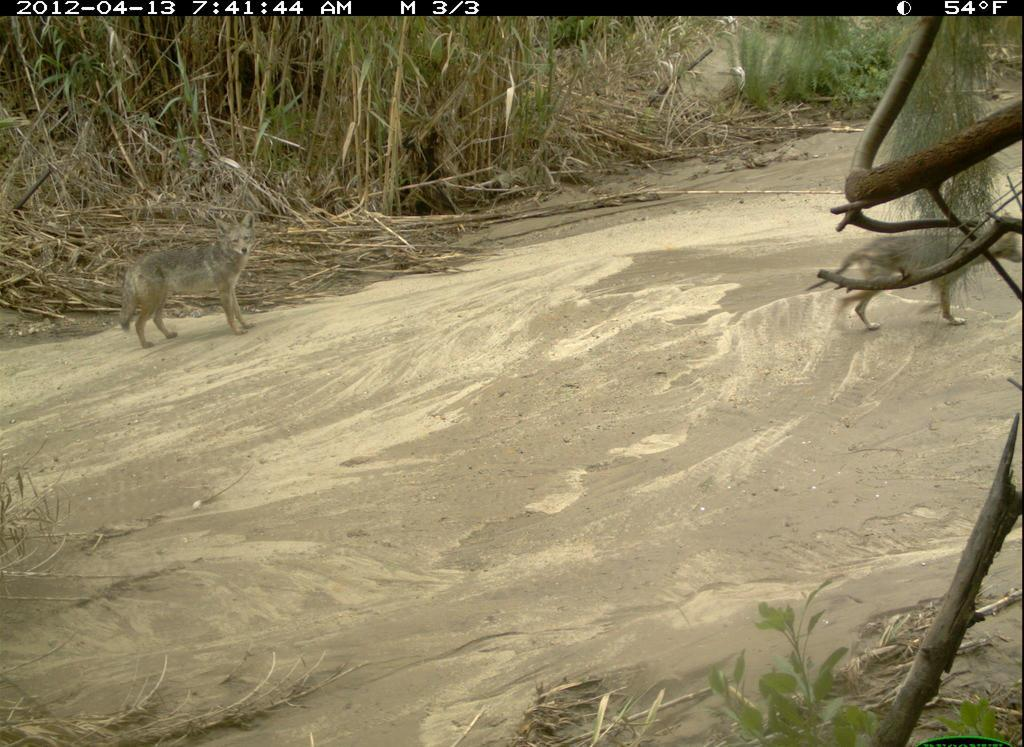coyote: (829, 189, 1019, 333), (107, 209, 282, 356)
